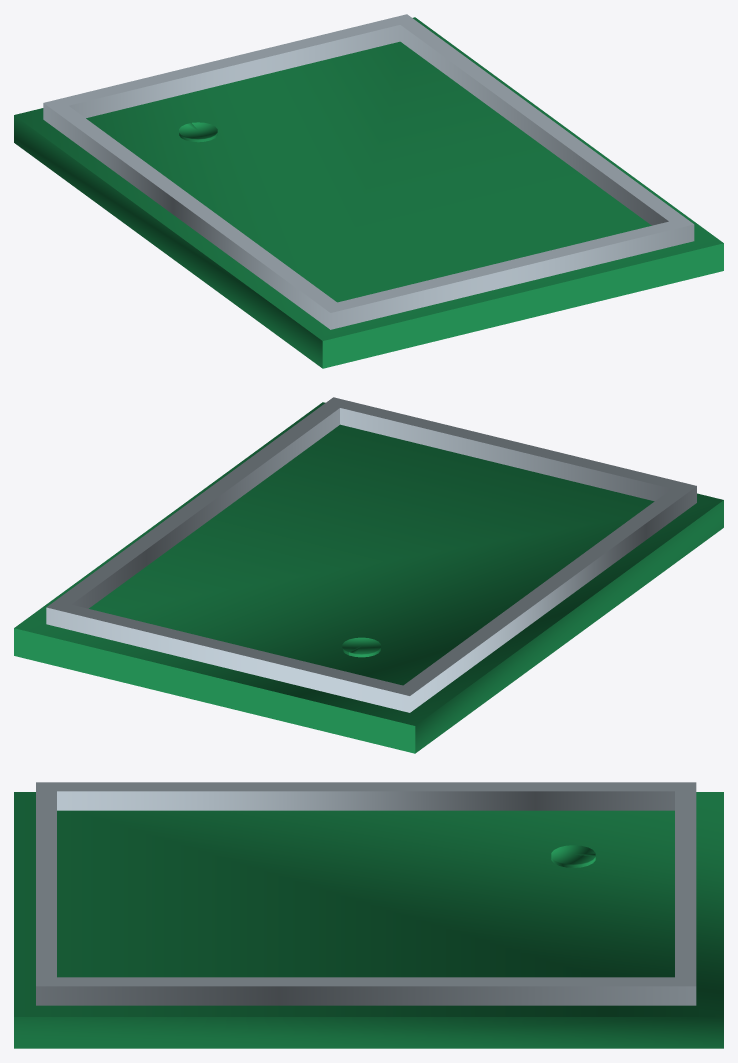
The model's file is Level12.fbx.
3 renders of one model, top to bottom at view 1: azimuth 30°, elevation 25°; view 2: azimuth 150°, elevation 25°; view 3: azimuth 270°, elevation 25°, orthographic. The views are drawn at different scales.
Visible parts, largest first — view 1: Box002, Rectangle0; view 2: Box002, Rectangle0; view 3: Box002, Rectangle0.
Part boxes in pixels (<box>): Box002: <box>14,17,723,368</box>; Rectangle0: <box>43,14,694,329</box>; Box002: <box>14,402,723,753</box>; Rectangle0: <box>46,397,696,712</box>; Box002: <box>14,792,723,1048</box>; Rectangle0: <box>36,782,696,1005</box>.
Size of the model in its own units: 135 by 14.27 by 180.
